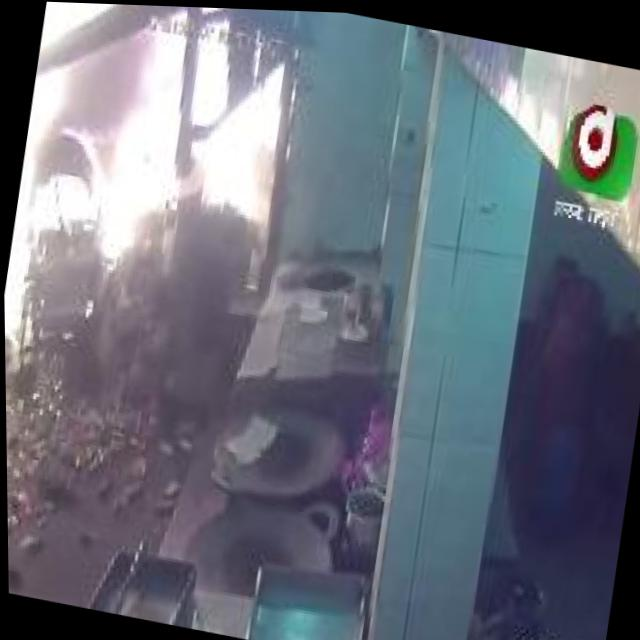fire: (77, 18, 295, 303), (0, 0, 162, 376)
